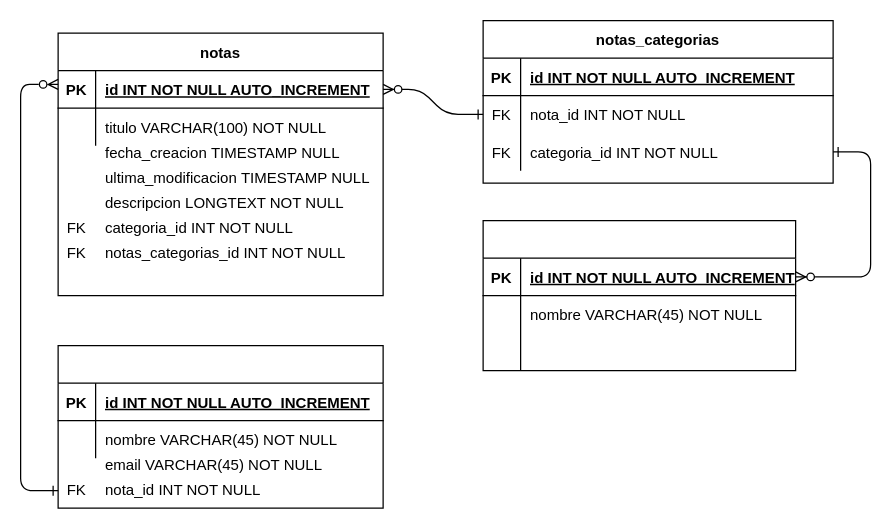
The diagram is 891 pixels wide and 529 high, and some of its shapes have lost their labels. The shapes that lost their labels are listed below. From the top down, each one's box as (x1, y1, x2, y2) in pixels, then its label:
(482, 219, 796, 371): categorias
(57, 344, 383, 508): usuarios
